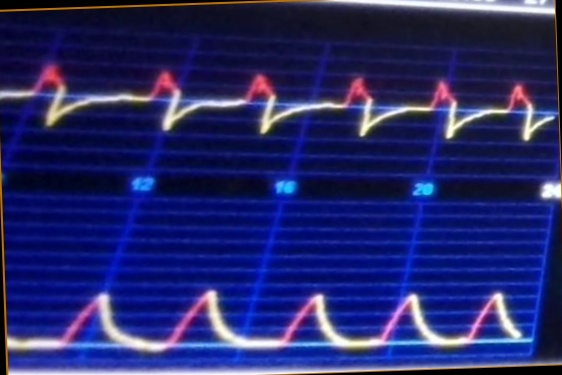Accumulation Flow: (2, 48, 553, 163)
Volume: (8, 275, 522, 361)
